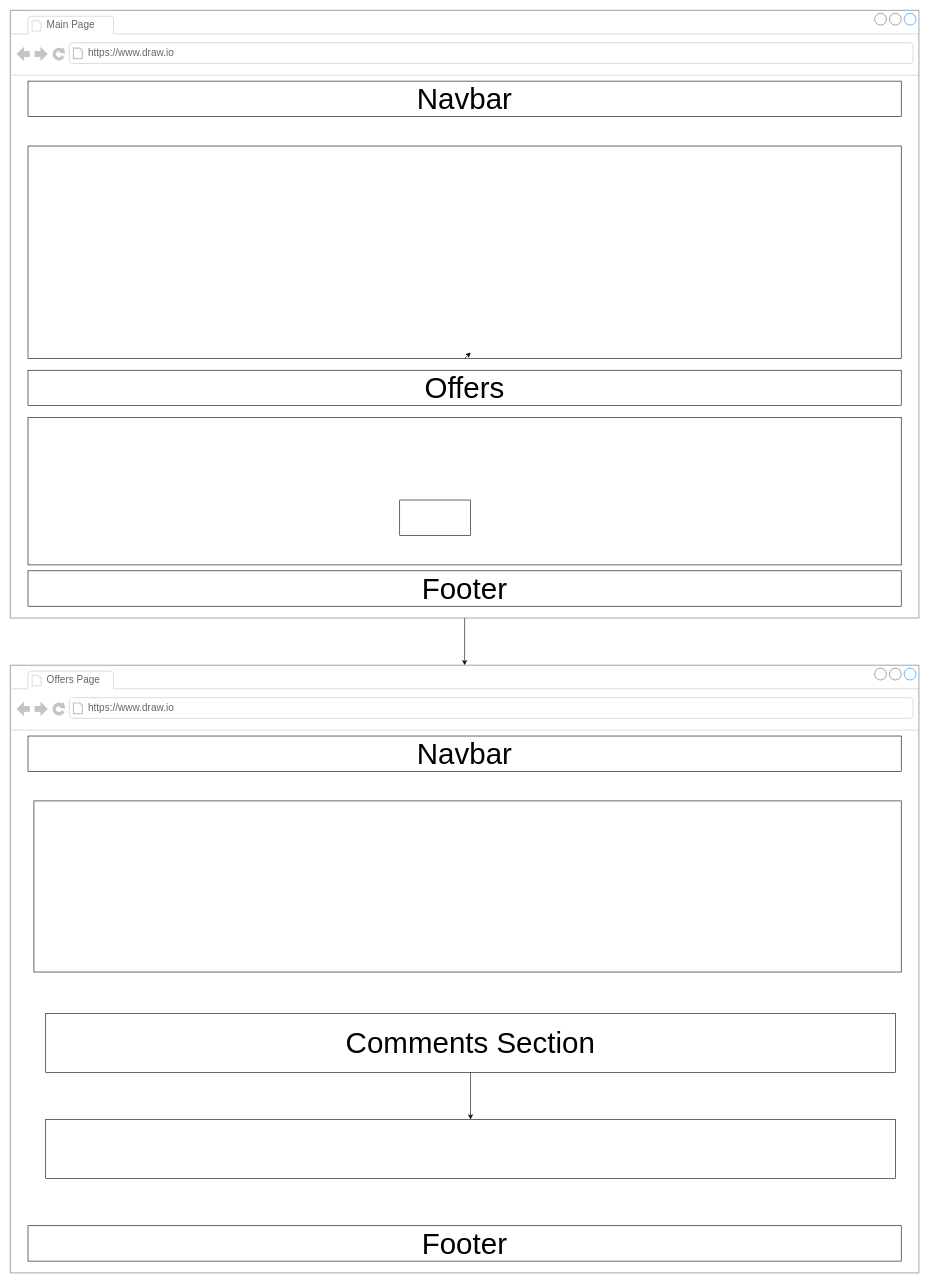
Some shapes in this 929 by 1283 pixel diagram are drawn without their labels. Here are the shapes that lost their labels. From the top down, the box of each, then its label:
(27, 145, 901, 358): Carousel
(27, 417, 901, 565): Menu
(33, 800, 901, 972): Product Details
(45, 1119, 895, 1179): Suggestion Section
